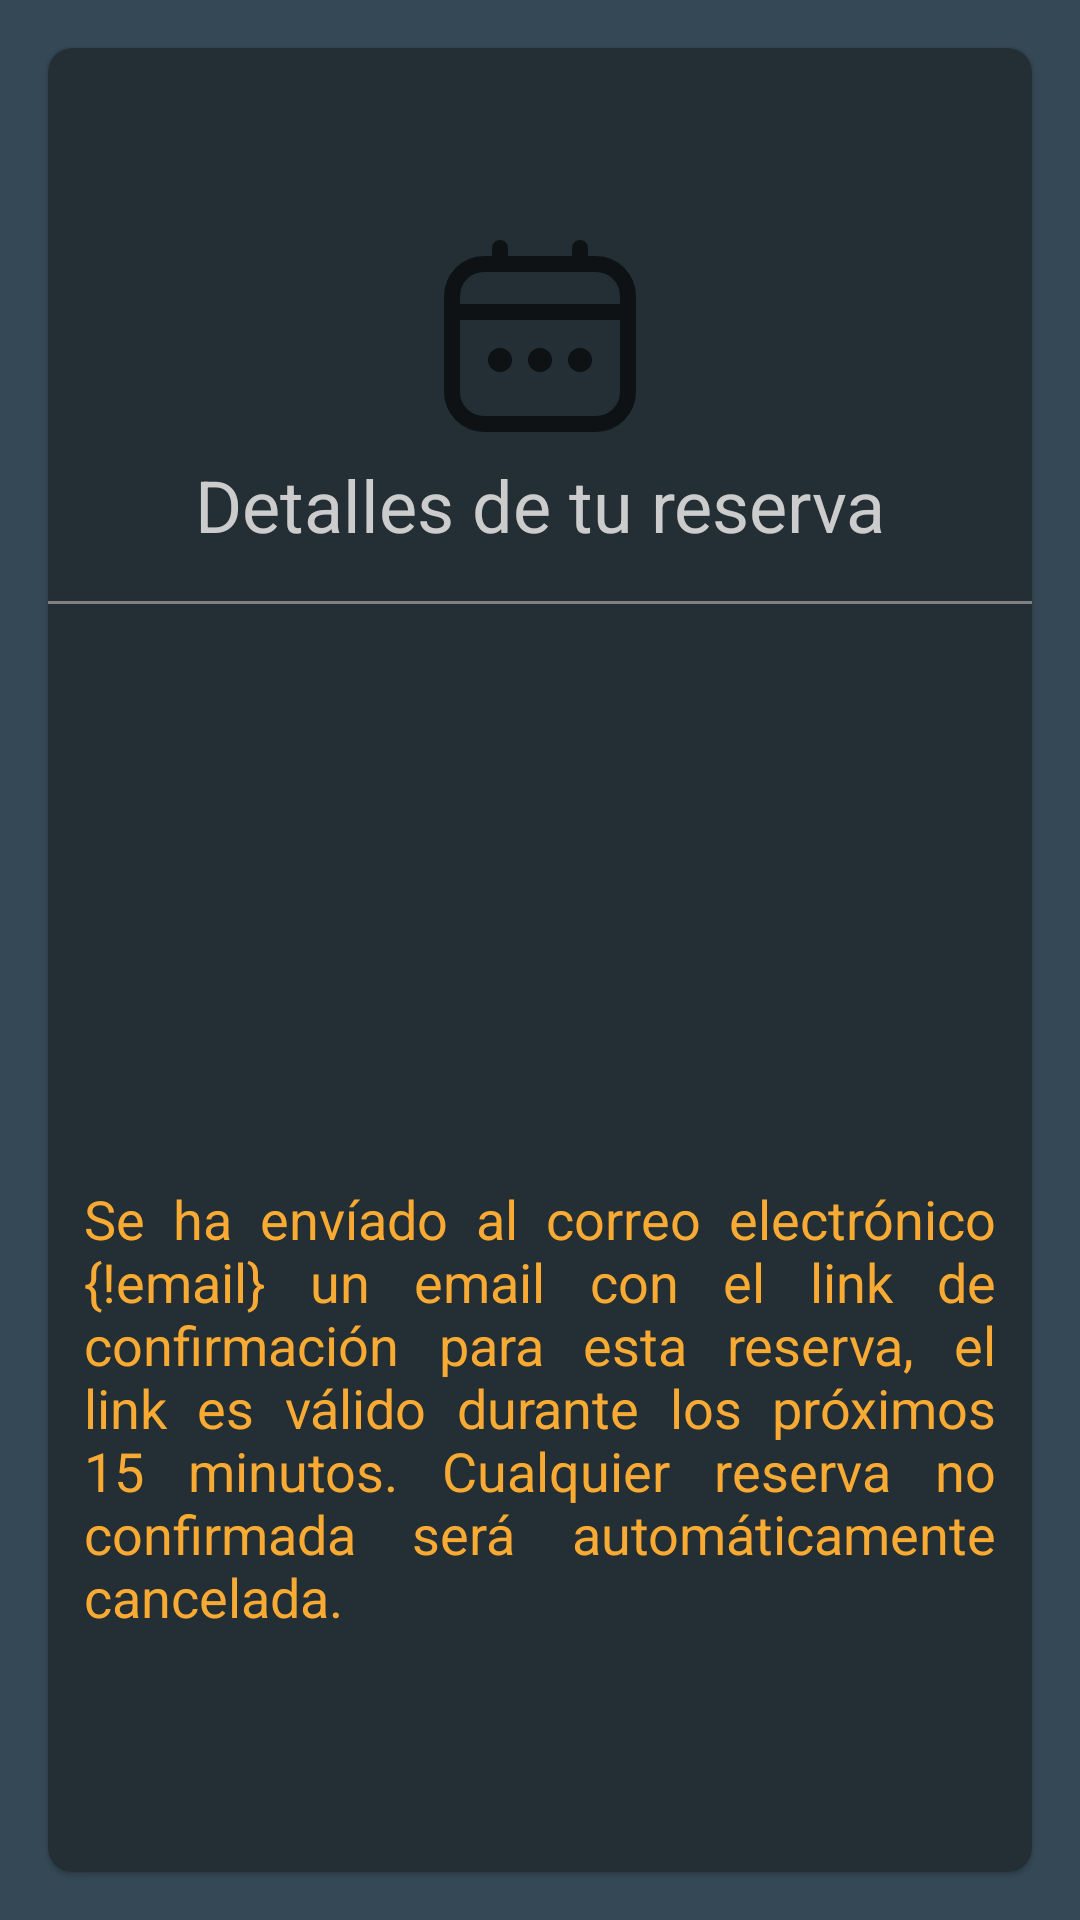

Locate icon controls on the screen. Image size 1080 × 1920, boxes as (x1, y1, x2, y2).
Calendar Icon: (444, 240, 636, 432)
